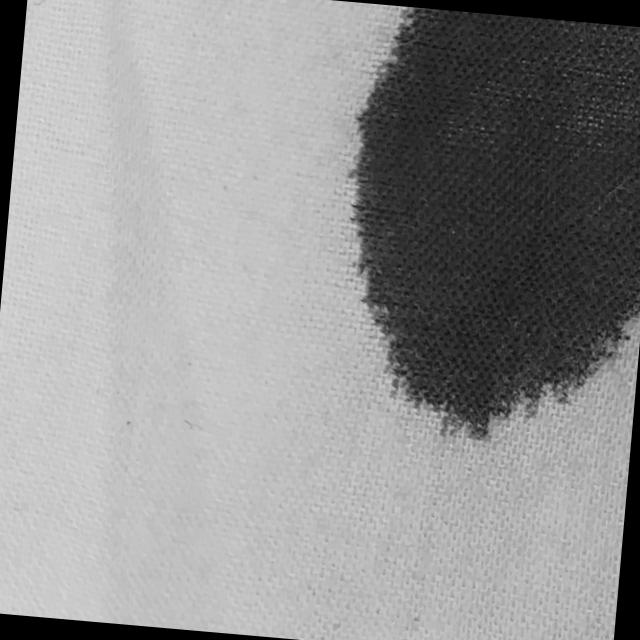Stain: (327, 2, 640, 455)
